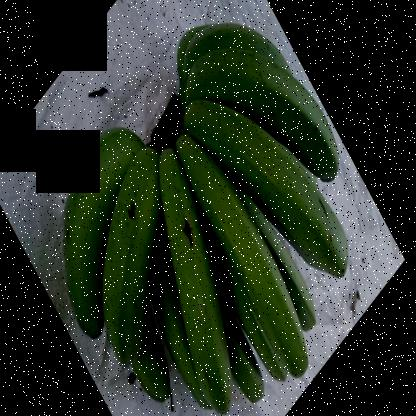unripe: (176, 141, 309, 386), (191, 115, 366, 285), (152, 153, 232, 416), (184, 57, 338, 190), (53, 126, 127, 349), (100, 110, 163, 364)
